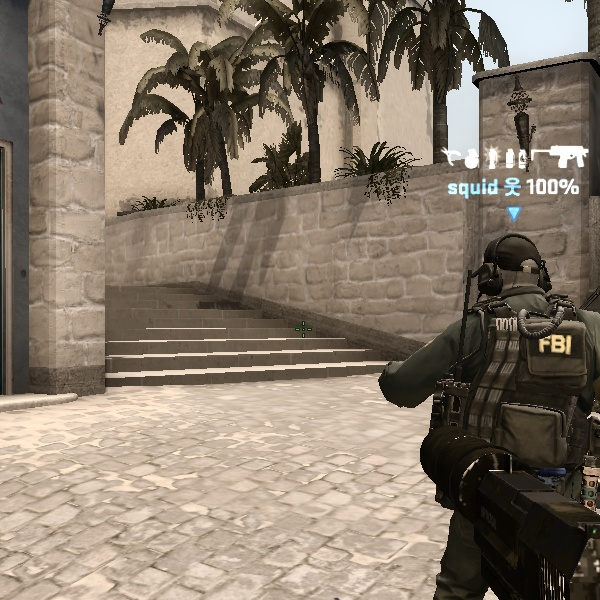ct_body: (387, 227, 599, 599)
ct_head: (460, 221, 568, 330)
